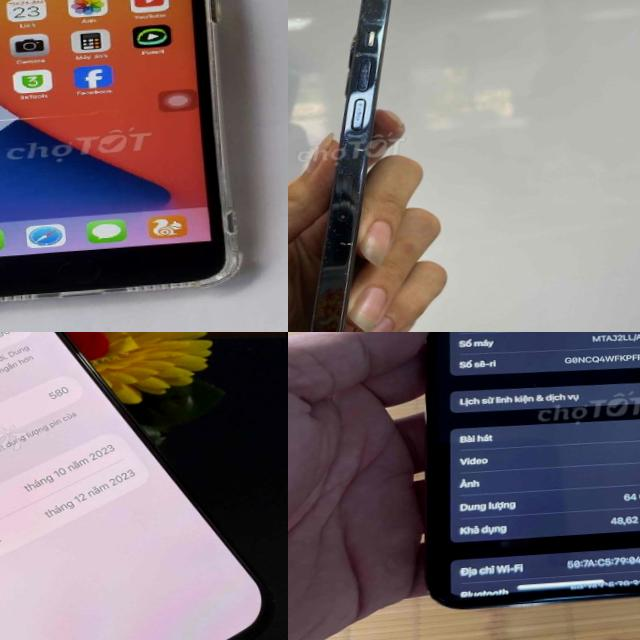gen_12_13: (288, 0, 474, 332)
gen_15: (0, 332, 283, 640)
gen_7_8: (0, 0, 263, 311)
gen_x_xs: (399, 332, 640, 626)
